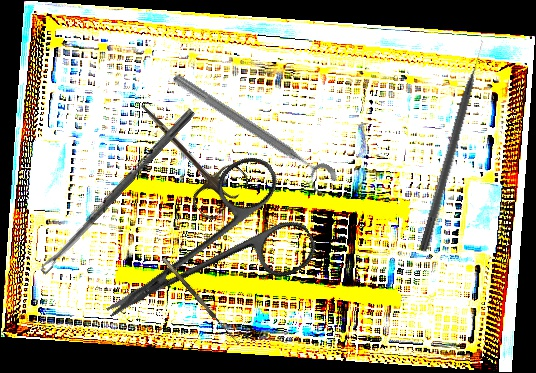Fixation Ring: (163, 68, 342, 200)
Hook Surgical: (161, 252, 245, 347)
Iris Scissors: (75, 147, 323, 364), (118, 86, 253, 223)
Pusher: (417, 38, 491, 254)
Surgical Spoon: (38, 107, 196, 275)
